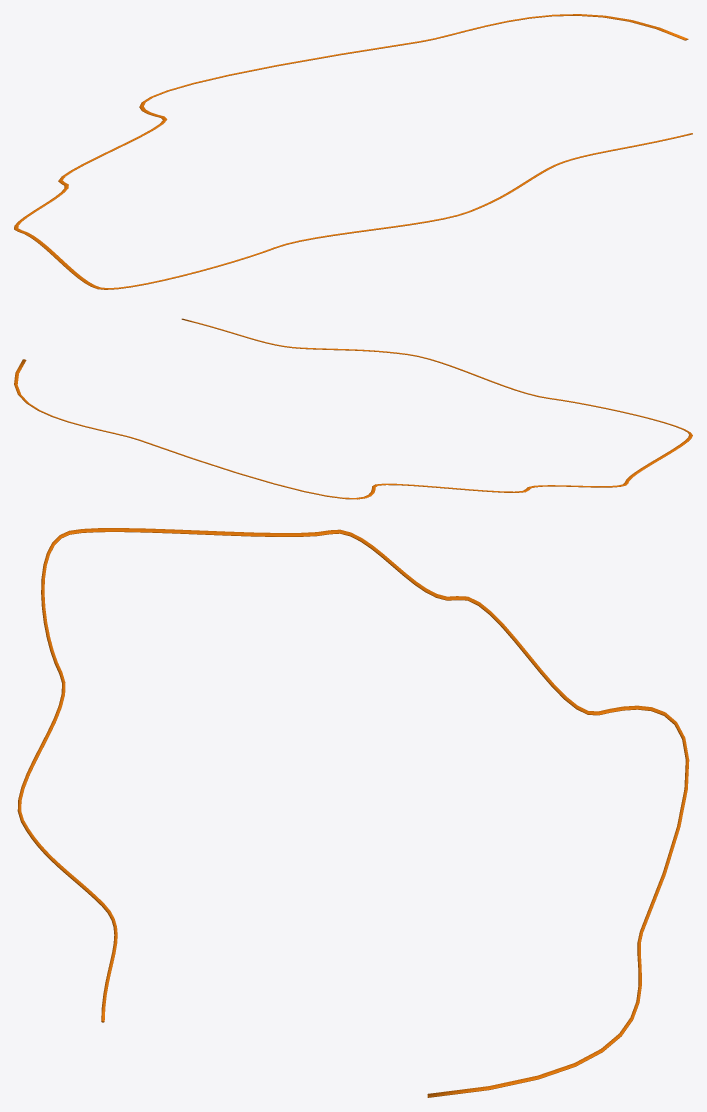
The model's file is rope_large.dae.
The picture shows the model from 3 angles, top to bottom: view 1: azimuth 30°, elevation 25°; view 2: azimuth 150°, elevation 25°; view 3: azimuth 270°, elevation 25°; orthographic projection. The views are drawn at different scales.
Visible parts, largest first — view 1: BezierCurve; view 2: BezierCurve; view 3: BezierCurve.
Boxes of the visible parts, x1,y1,x2,y2 form: BezierCurve: (14, 14, 692, 289); BezierCurve: (14, 318, 692, 499); BezierCurve: (17, 528, 689, 1097).
Size of the model in its own units: 839 by 418 by 1.41.
